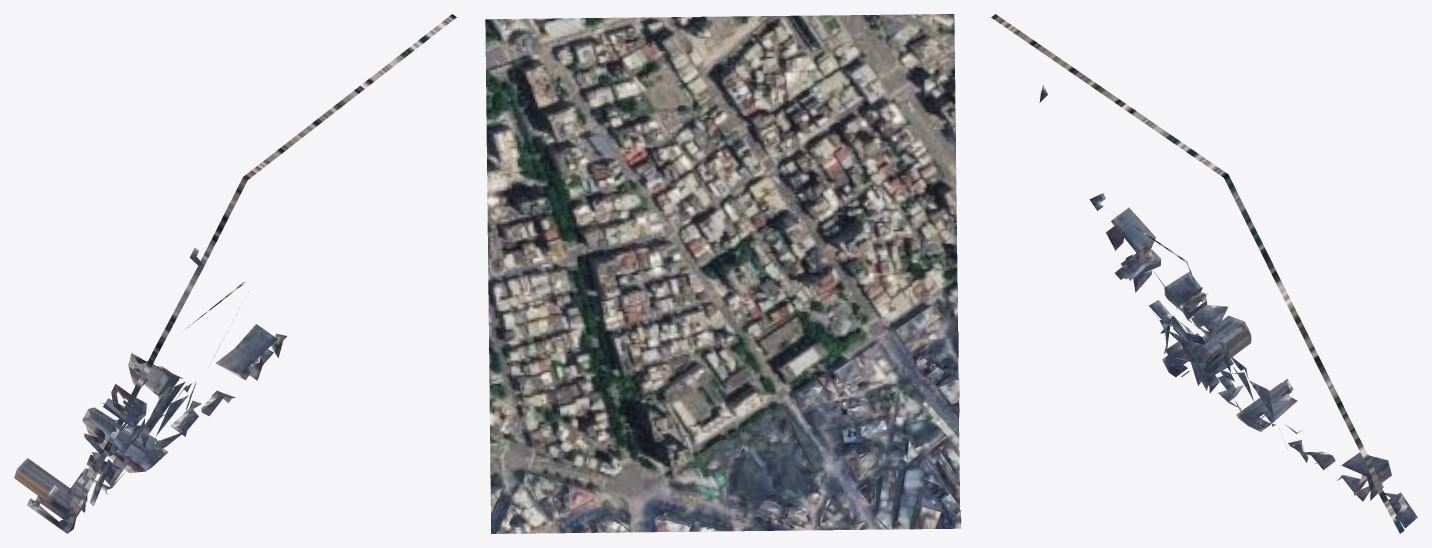
3 renders of one model, left to right at view 1: azimuth 30°, elevation 25°; view 2: azimuth 150°, elevation 25°; view 3: azimuth 270°, elevation 25°, orthographic. The views are drawn at different scales.
Size of the model in its own units: 639 by 555 by 531.
Materials: 1 (1 with a texture image).
